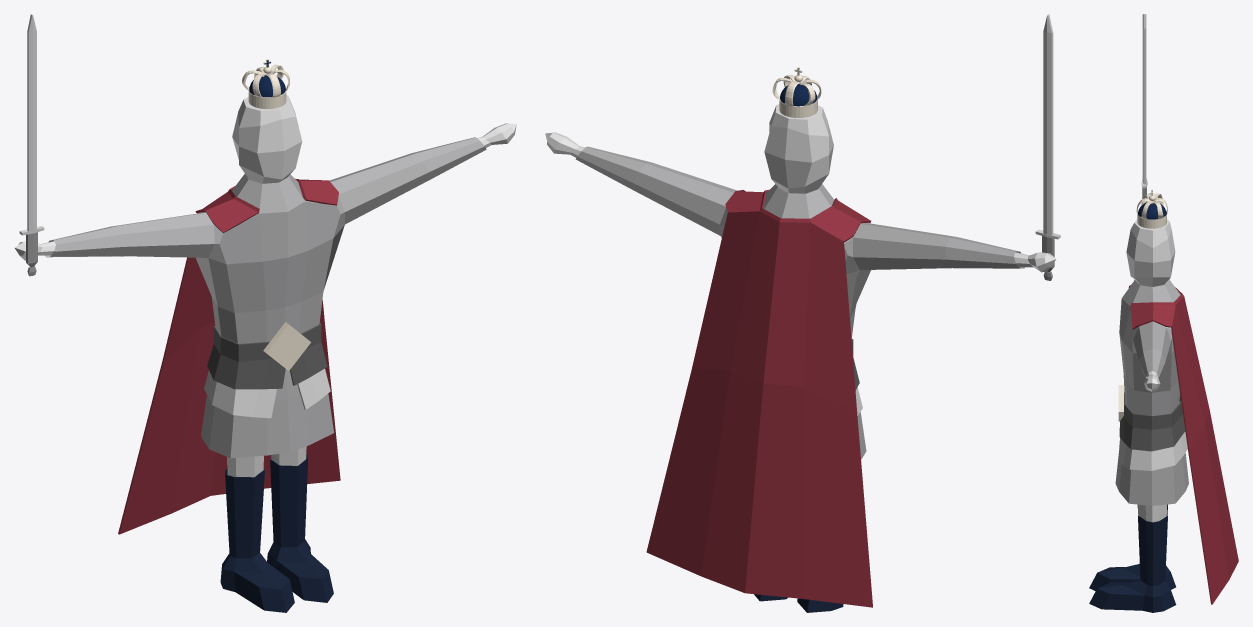
Rendered from AR_King Black.fbx.
3 views of the same model, side by side, from view 1: azimuth 30°, elevation 25°; view 2: azimuth 150°, elevation 25°; view 3: azimuth 270°, elevation 25° (orthographic). The views are drawn at different scales.
Visible parts, largest first — view 1: 큐브.001, 큐브.002, 큐브.005, 큐브.004, 큐브, Cube, Circle; view 2: 큐브.002, 큐브.001, 큐브, Cube, Circle; view 3: 큐브.002, 큐브.001, 큐브.005, 큐브.004, 큐브, Circle, Cube.
Boxes of the visible parts, bbox=[...] form: 큐브.001: bbox=[45, 137, 486, 458]; 큐브.002: bbox=[118, 178, 340, 534]; 큐브.005: bbox=[220, 454, 333, 612]; 큐브.004: bbox=[204, 322, 330, 418]; 큐브: bbox=[14, 95, 516, 477]; Cube: bbox=[19, 14, 44, 276]; Circle: bbox=[242, 59, 289, 108]; 큐브.002: bbox=[646, 189, 872, 607]; 큐브.001: bbox=[575, 146, 1024, 459]; 큐브: bbox=[545, 104, 1055, 272]; Cube: bbox=[1035, 14, 1060, 280]; Circle: bbox=[772, 67, 821, 117]; 큐브.002: bbox=[1128, 284, 1238, 604]; 큐브.001: bbox=[1115, 279, 1188, 505]; 큐브.005: bbox=[1089, 504, 1176, 612]; 큐브.004: bbox=[1118, 385, 1187, 470]; 큐브: bbox=[1126, 193, 1175, 522]; Circle: bbox=[1136, 189, 1167, 228]; Cube: bbox=[1141, 14, 1147, 198].
Bounding box in the file's own units: 1592 × 1895 × 525.
